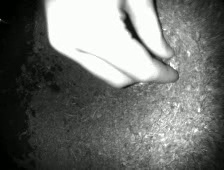corn: (168, 58, 180, 74)
